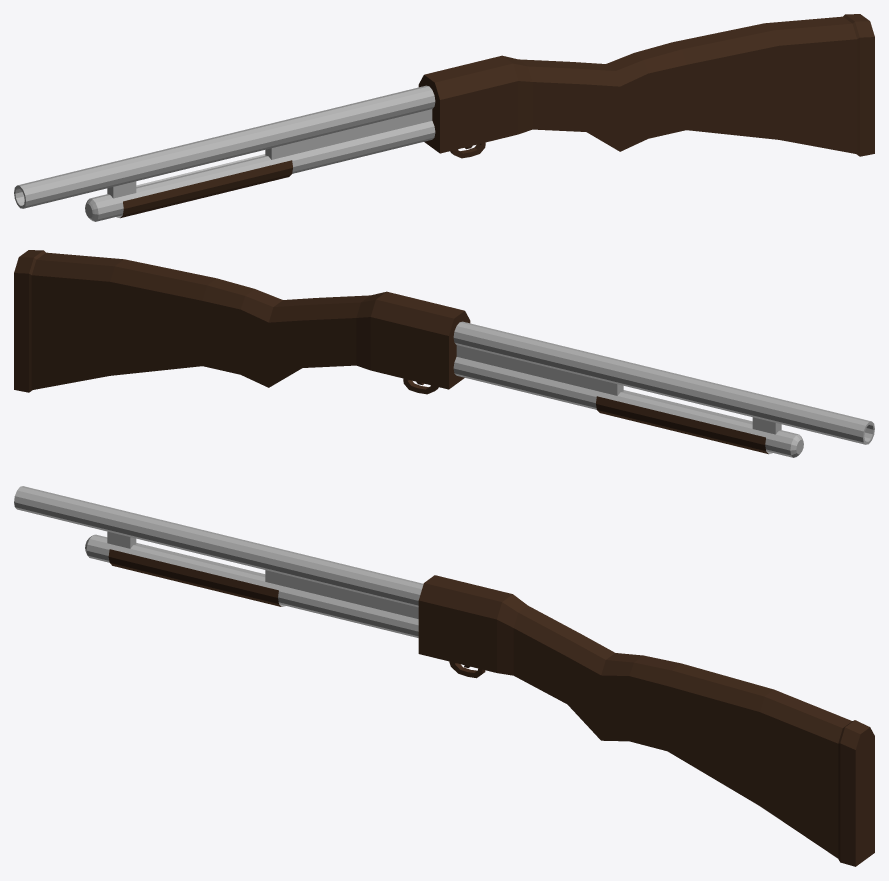
File: Shotgun.fbx
3 renders of one model, top to bottom at view 1: azimuth 30°, elevation 25°; view 2: azimuth 150°, elevation 25°; view 3: azimuth 330°, elevation 25°, orthographic.
Parts seen in each view (by area): view 1: Shotgun; view 2: Shotgun; view 3: Shotgun.
Part boxes in pixels (x1,y1,x2,y2): Shotgun: [14, 14, 874, 221]; Shotgun: [14, 250, 874, 457]; Shotgun: [14, 486, 874, 866].
Size of the model in its own units: 2119 by 418 by 92.83.
